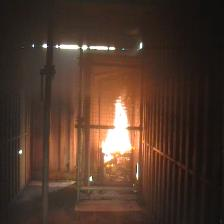fire: (99, 96, 135, 163)
